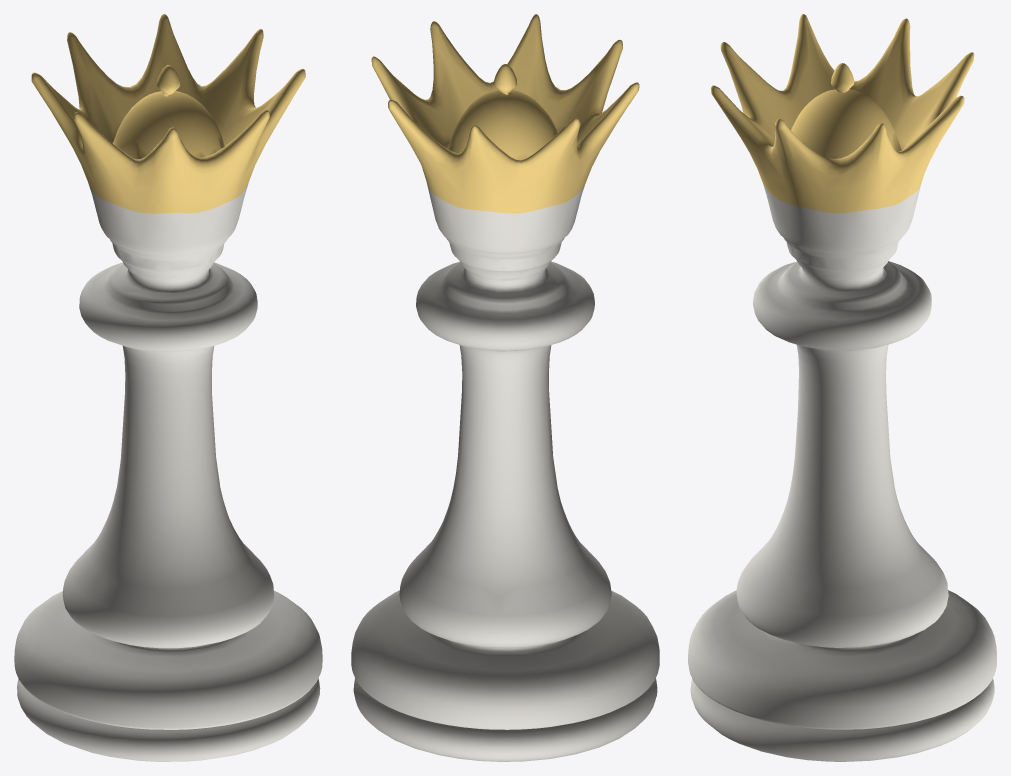
The model's file is gercek7_q_w.glb.
The picture shows the model from 3 angles, left to right: view 1: azimuth 30°, elevation 25°; view 2: azimuth 150°, elevation 25°; view 3: azimuth 270°, elevation 25°; orthographic projection.
Visible parts, largest first — view 1: q_w_0; view 2: q_w_0; view 3: q_w_0.
Boxes of the visible parts, x1,y1,x2,y2 form: q_w_0: (14,14,322,761); q_w_0: (351,14,659,761); q_w_0: (688,14,996,761).
Size of the model in its own units: 0.3922 by 0.8999 by 0.3921.
